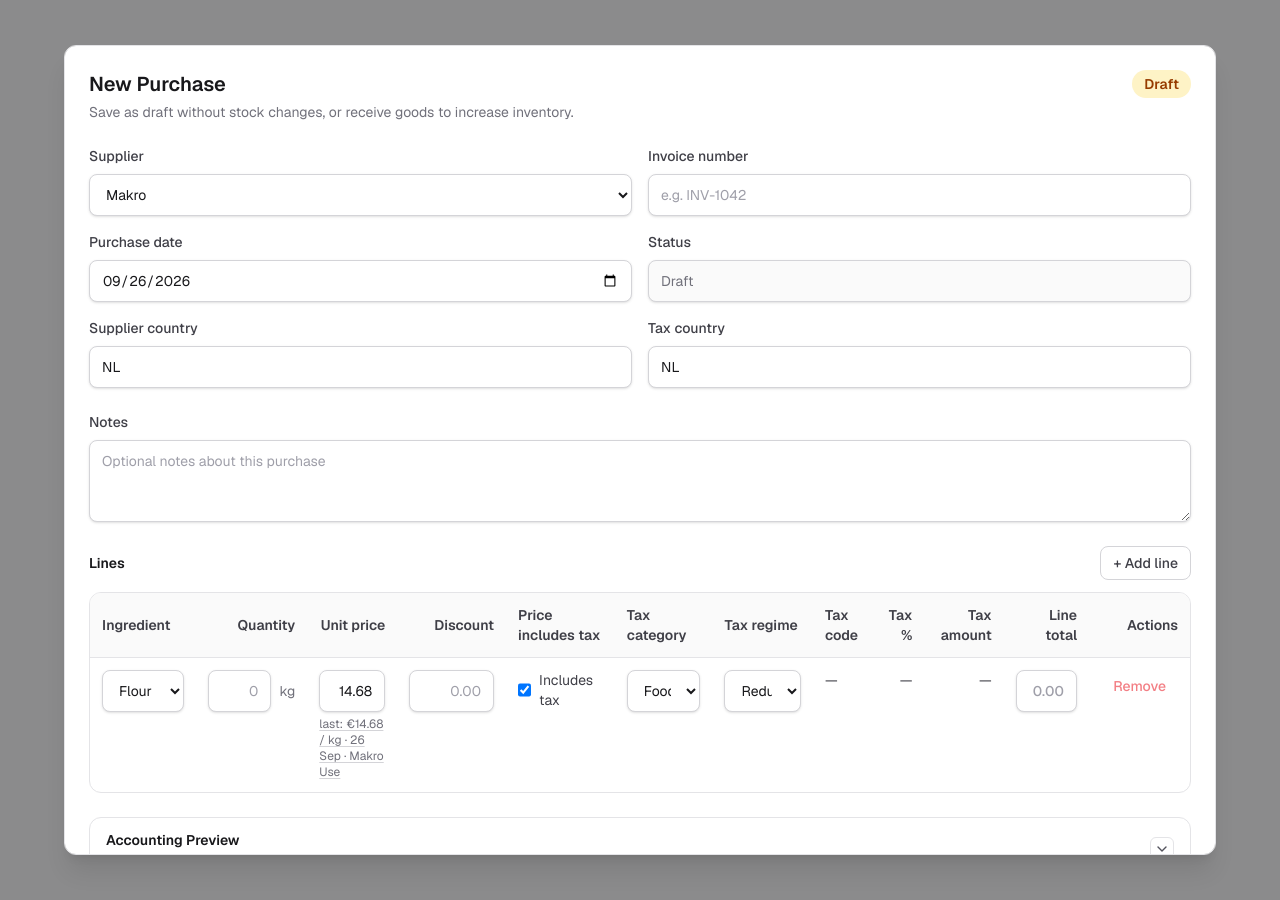
Scenario: PurchaseDocumentModal last price › lets Use replace a price the user already typed
This screenshot has width=1280, height=900.
Replace the text in the field named "Unit price" with "3" at [352, 691], box [319,670,385,712]
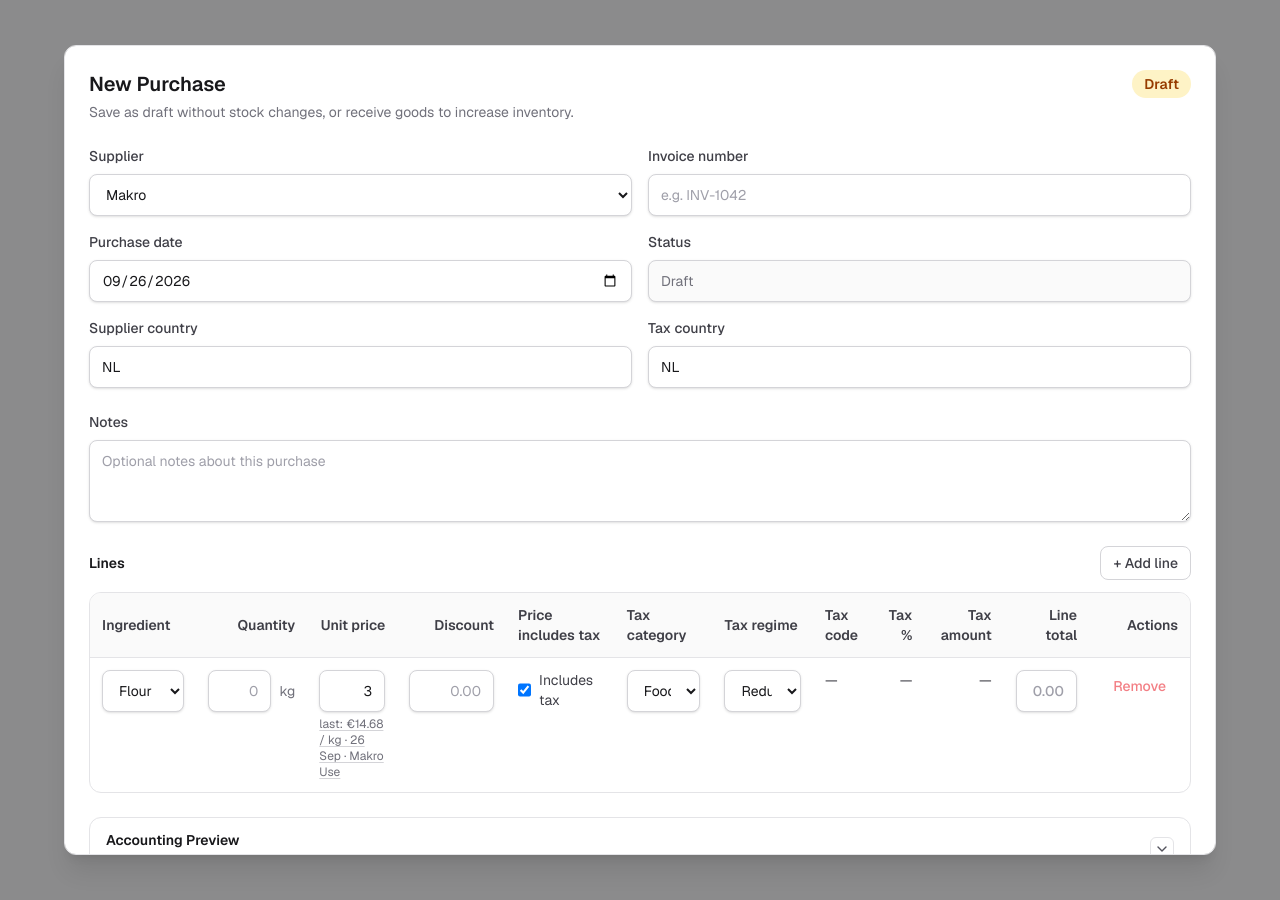
Click the button "last: €14.68 / kg · 26 Sep · Makro Use" at [352, 748], box [319,716,385,780]
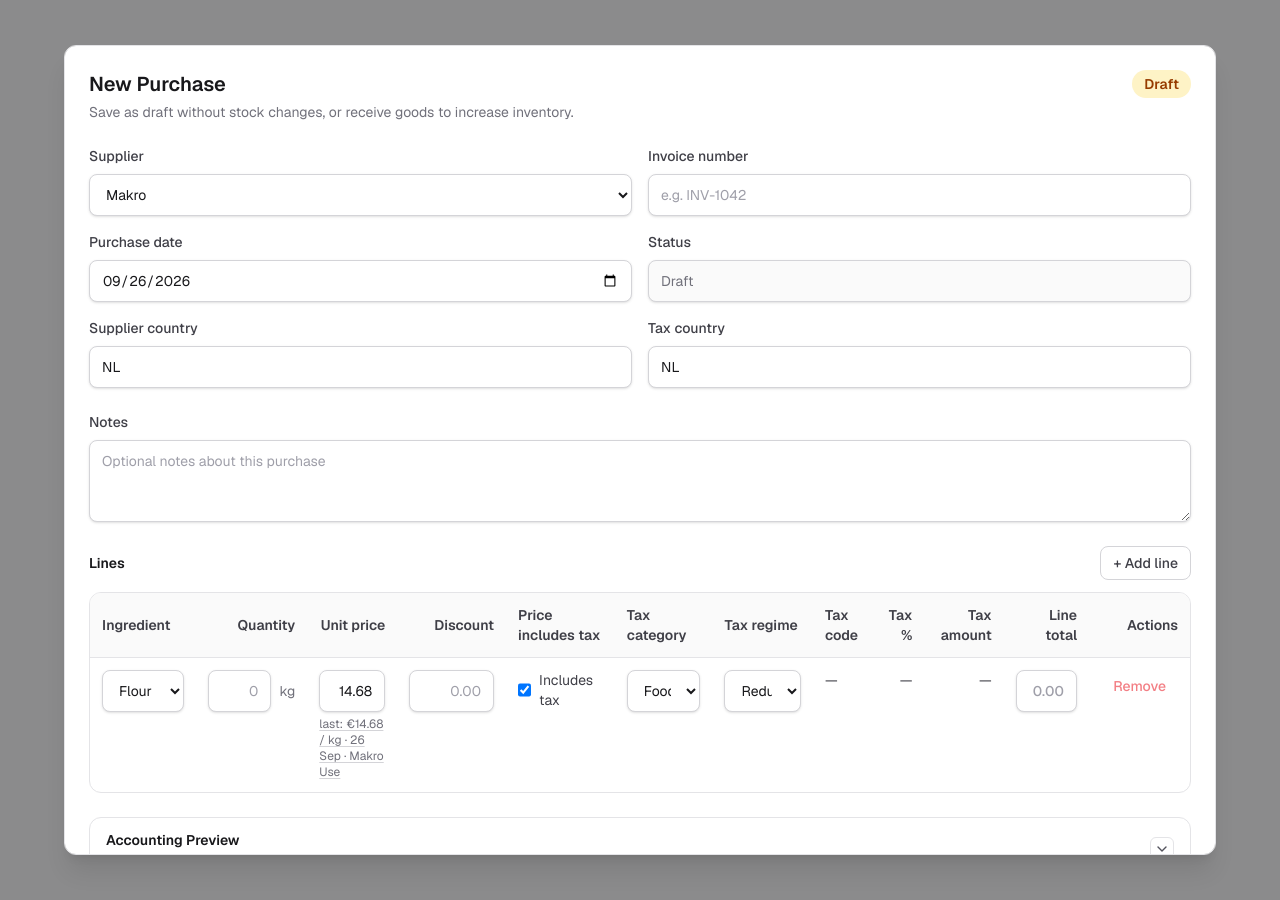
Result: the field named "Unit price" holds "14.68" at [319,670,385,712]
